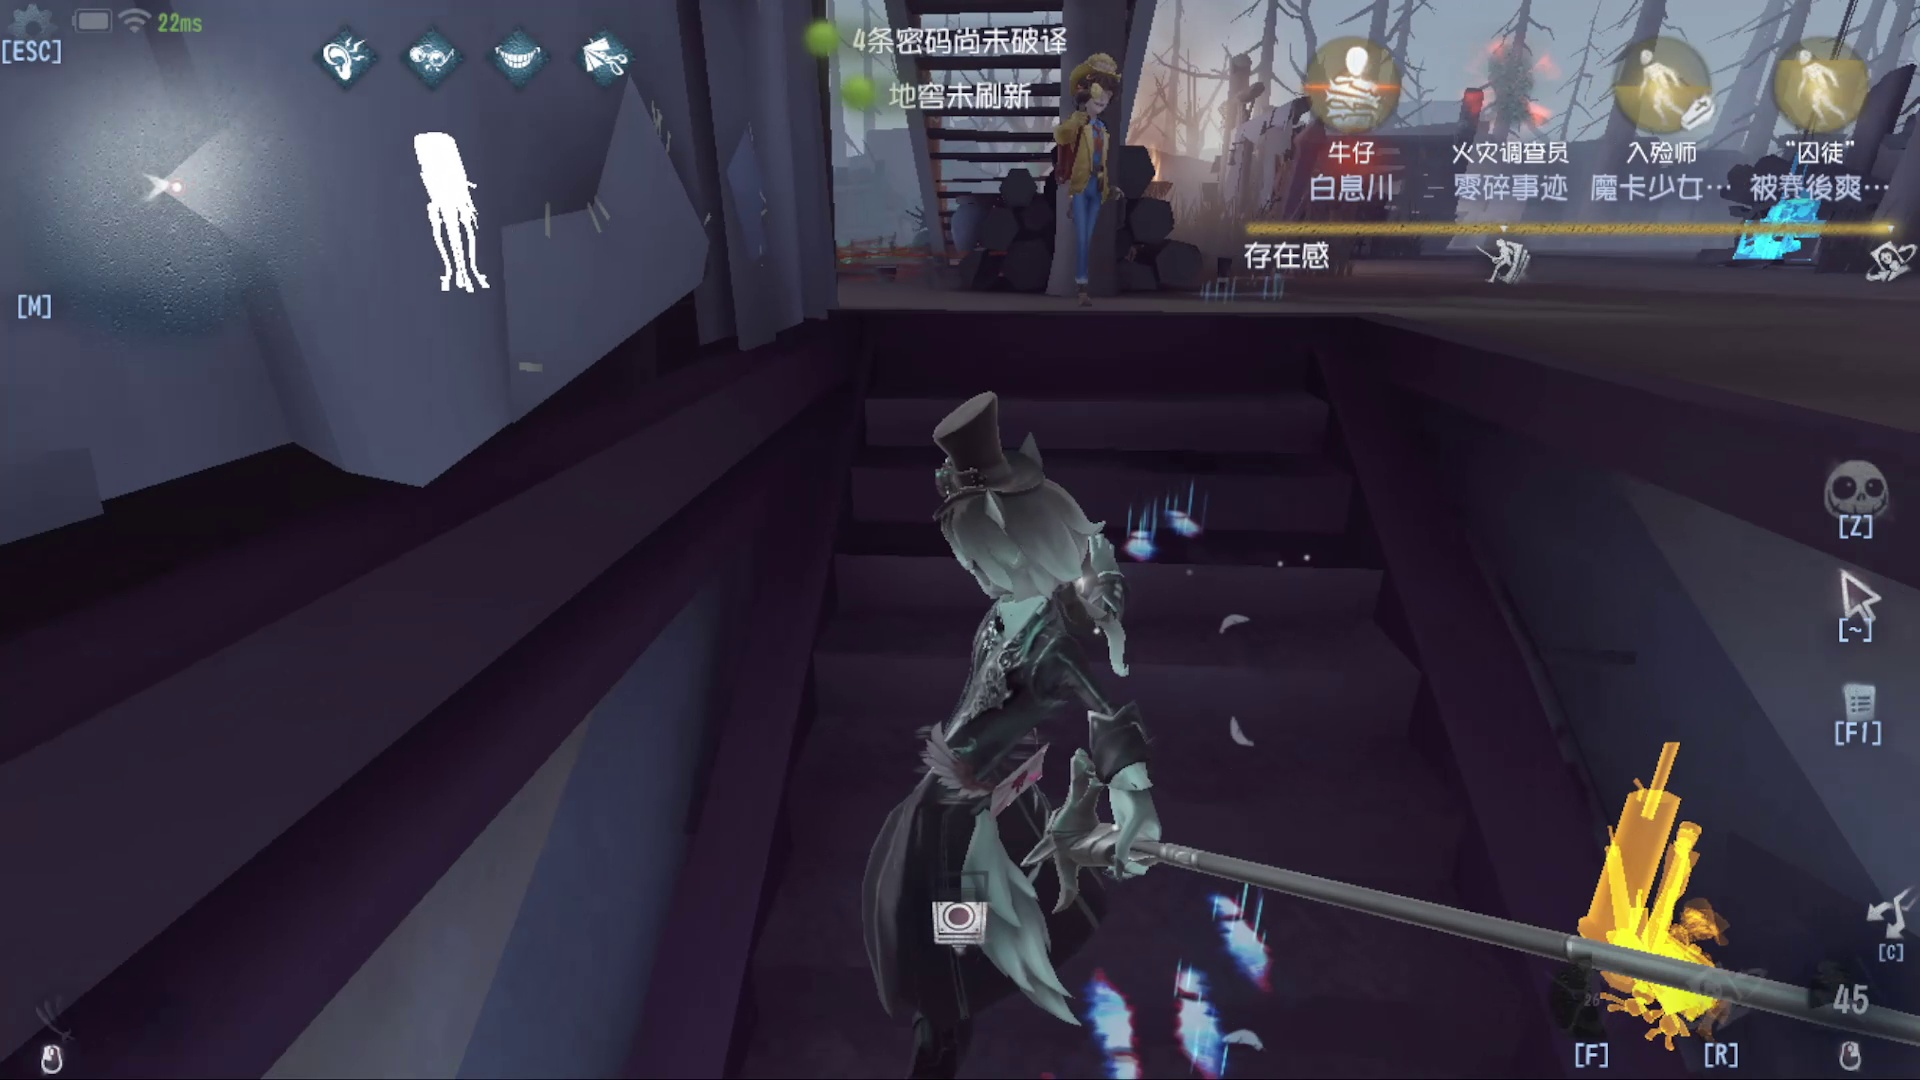求生者: (1044, 55, 1139, 324)
狂欢之椅: (1539, 725, 1755, 1029)
